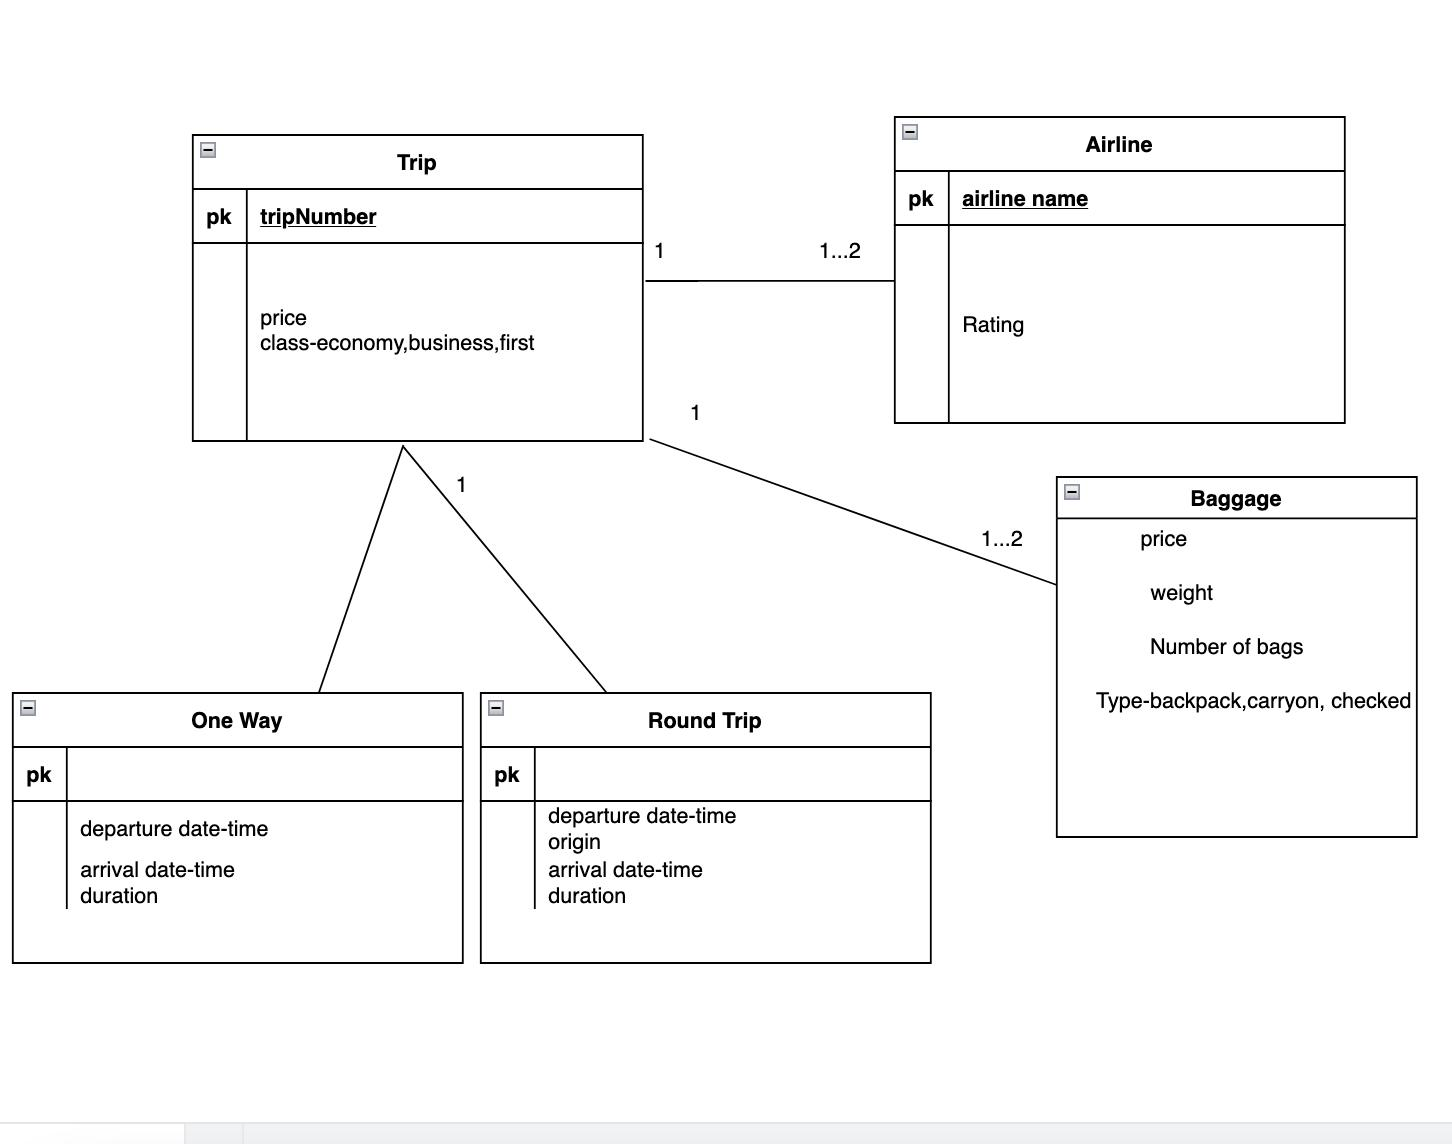entity: (893, 114, 1343, 422), (193, 134, 641, 443), (1058, 475, 1417, 838), (482, 692, 933, 963), (14, 691, 463, 963)
rel_type: (811, 233, 875, 273), (432, 455, 483, 503), (971, 520, 1038, 554), (673, 401, 721, 431), (647, 232, 682, 270)
